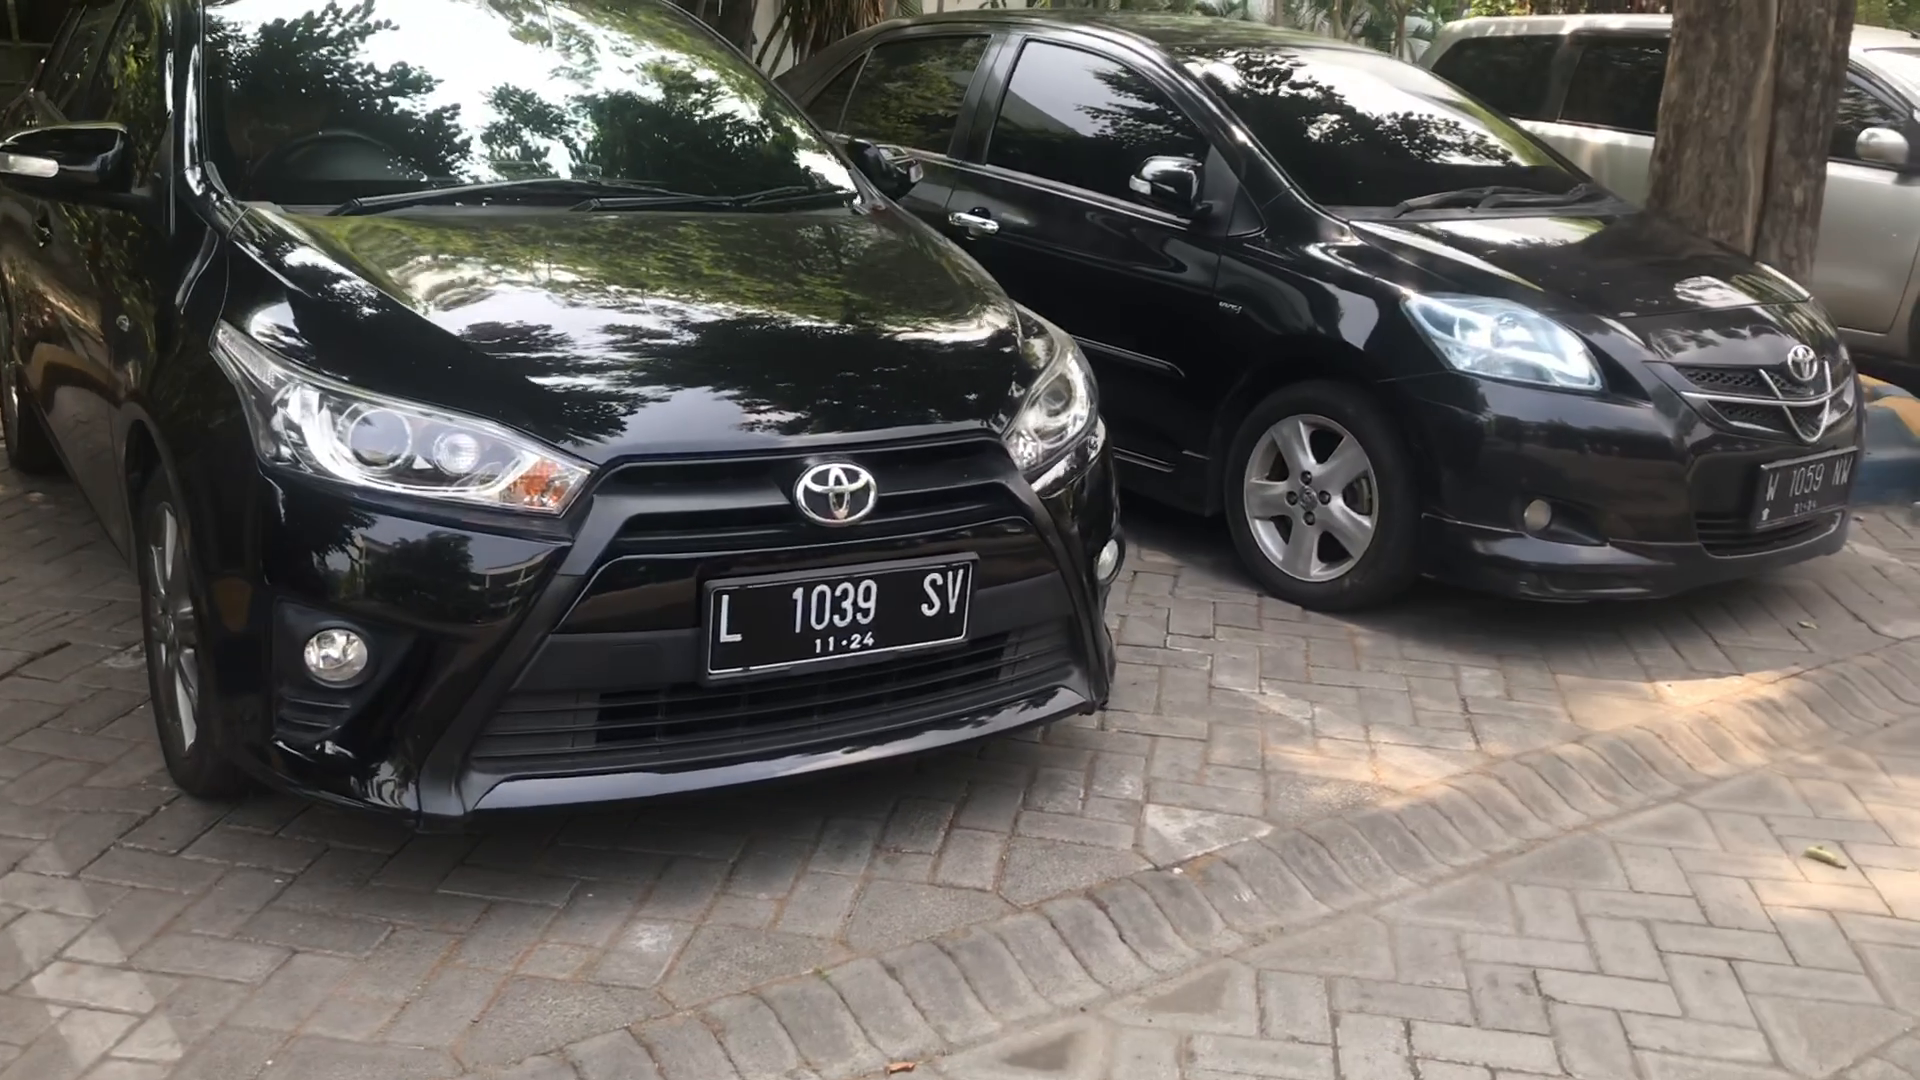plate: (702, 552, 970, 670), (1757, 450, 1860, 525)
